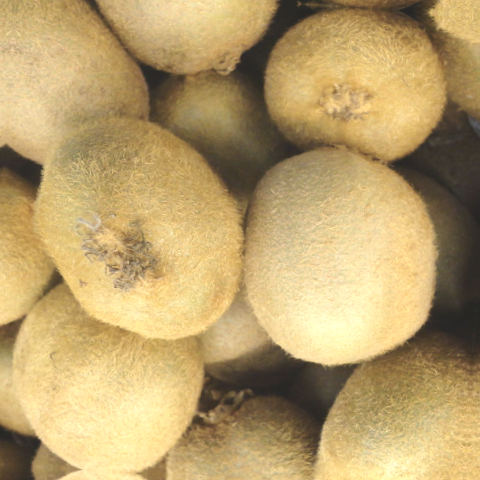kiwi: (212, 120, 468, 375), (21, 98, 266, 358), (0, 279, 217, 478), (255, 1, 458, 184)
